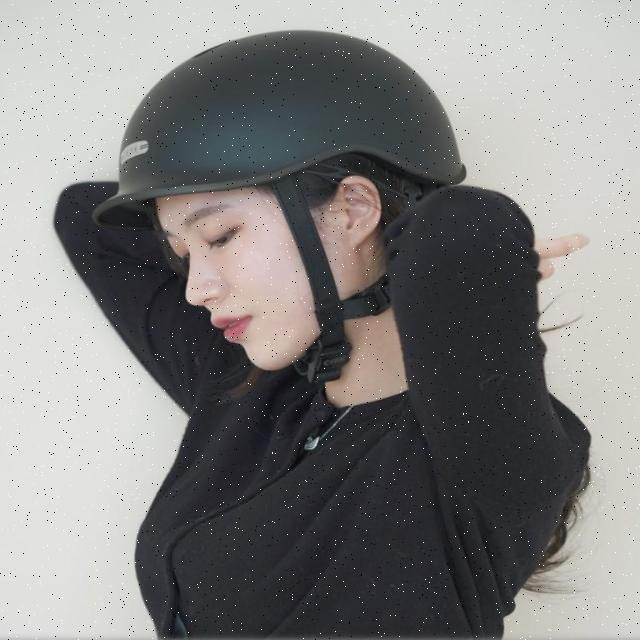helmet: (92, 34, 466, 386)
